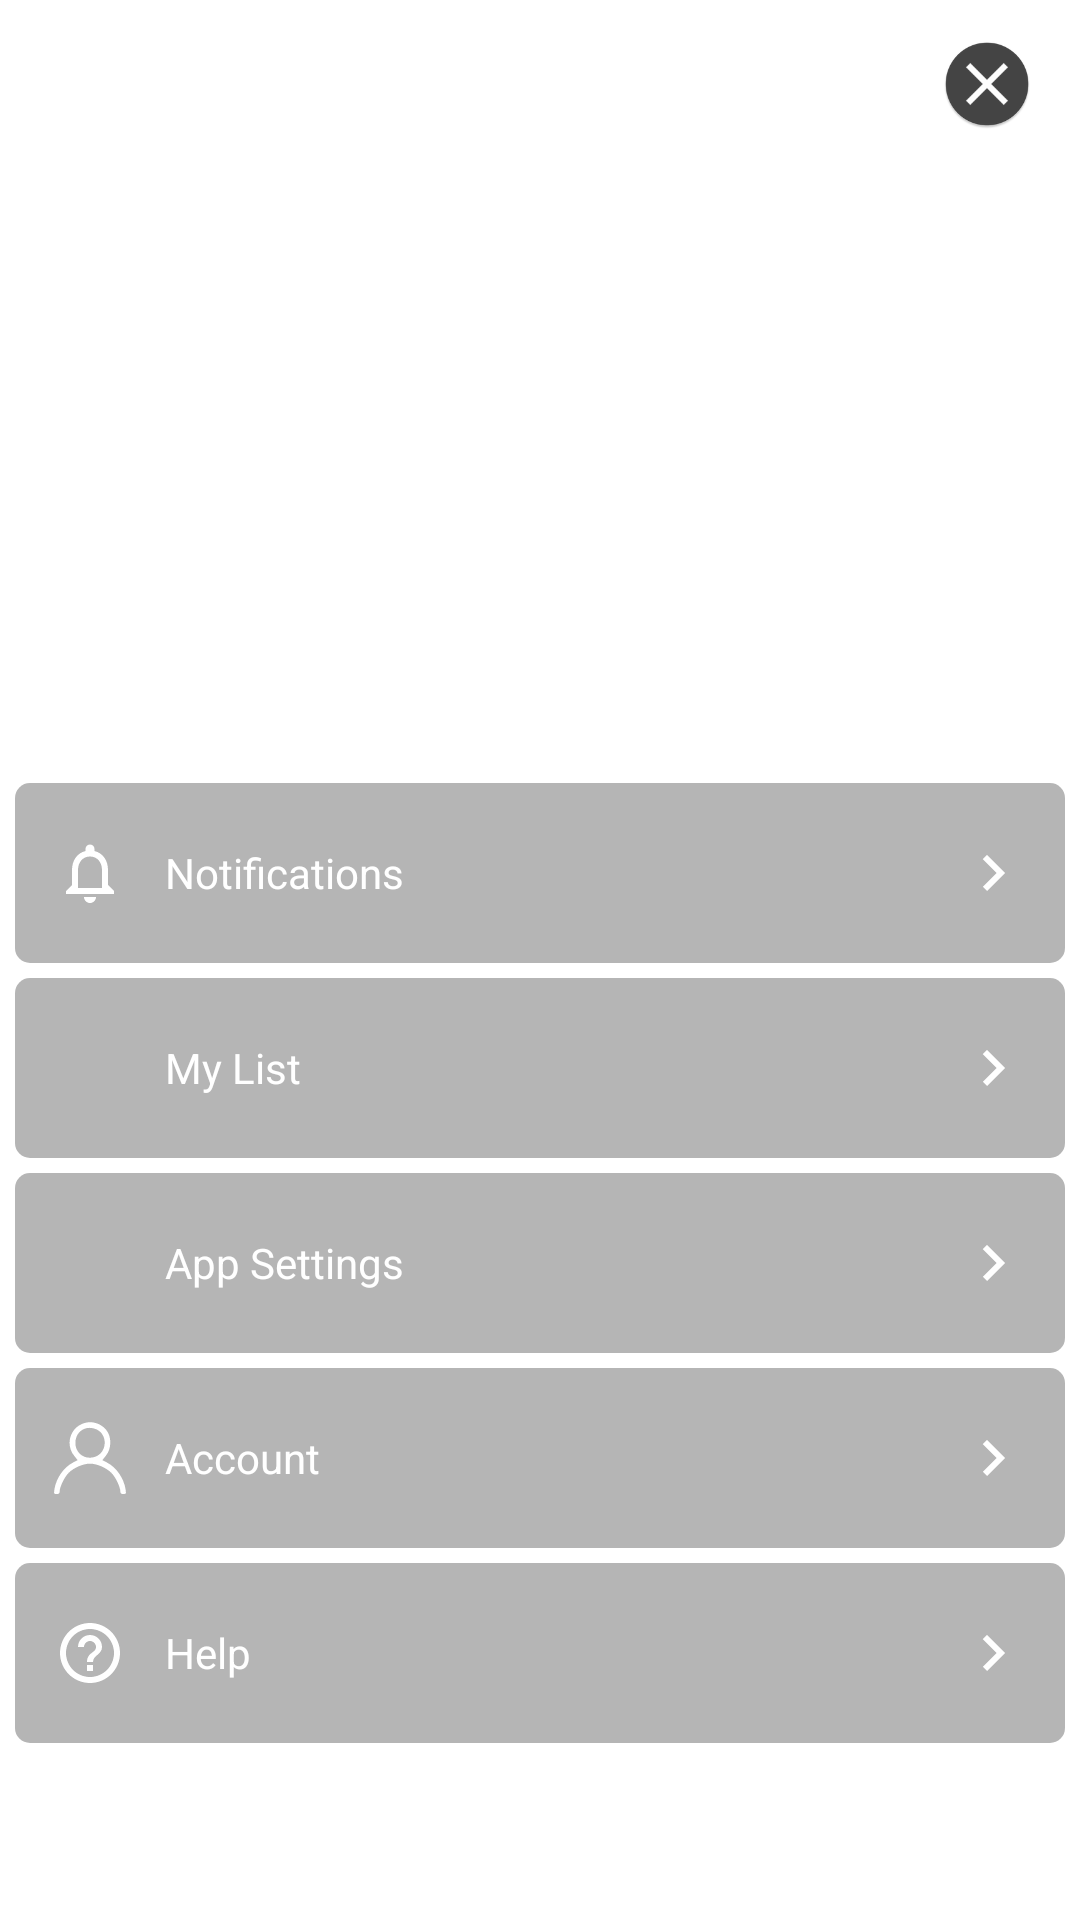

Named icons in this screenshot (1080x1920) and their bounding boxes, (x1, y1, x2, y2):
arrow right: (983, 855, 1005, 891), (983, 1050, 1005, 1086), (983, 1245, 1005, 1281), (983, 1440, 1005, 1476), (983, 1635, 1005, 1671)
close circle: (945, 42, 1029, 127)
user: (54, 1422, 126, 1494)
